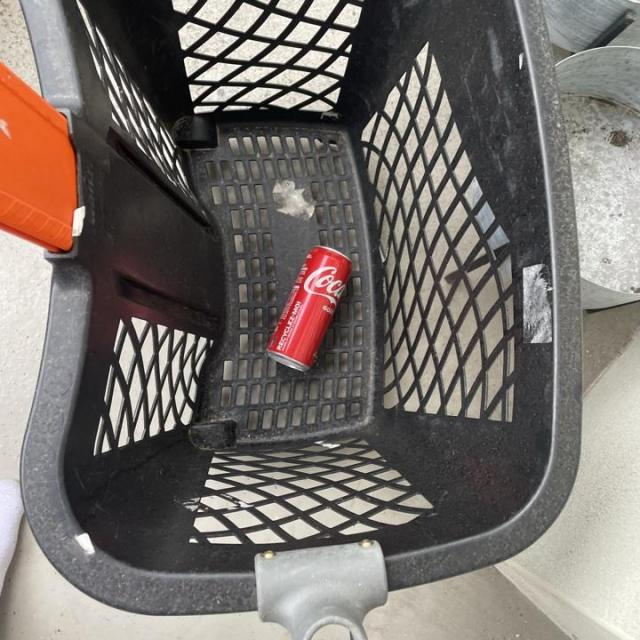recyclable: (266, 242, 353, 377)
